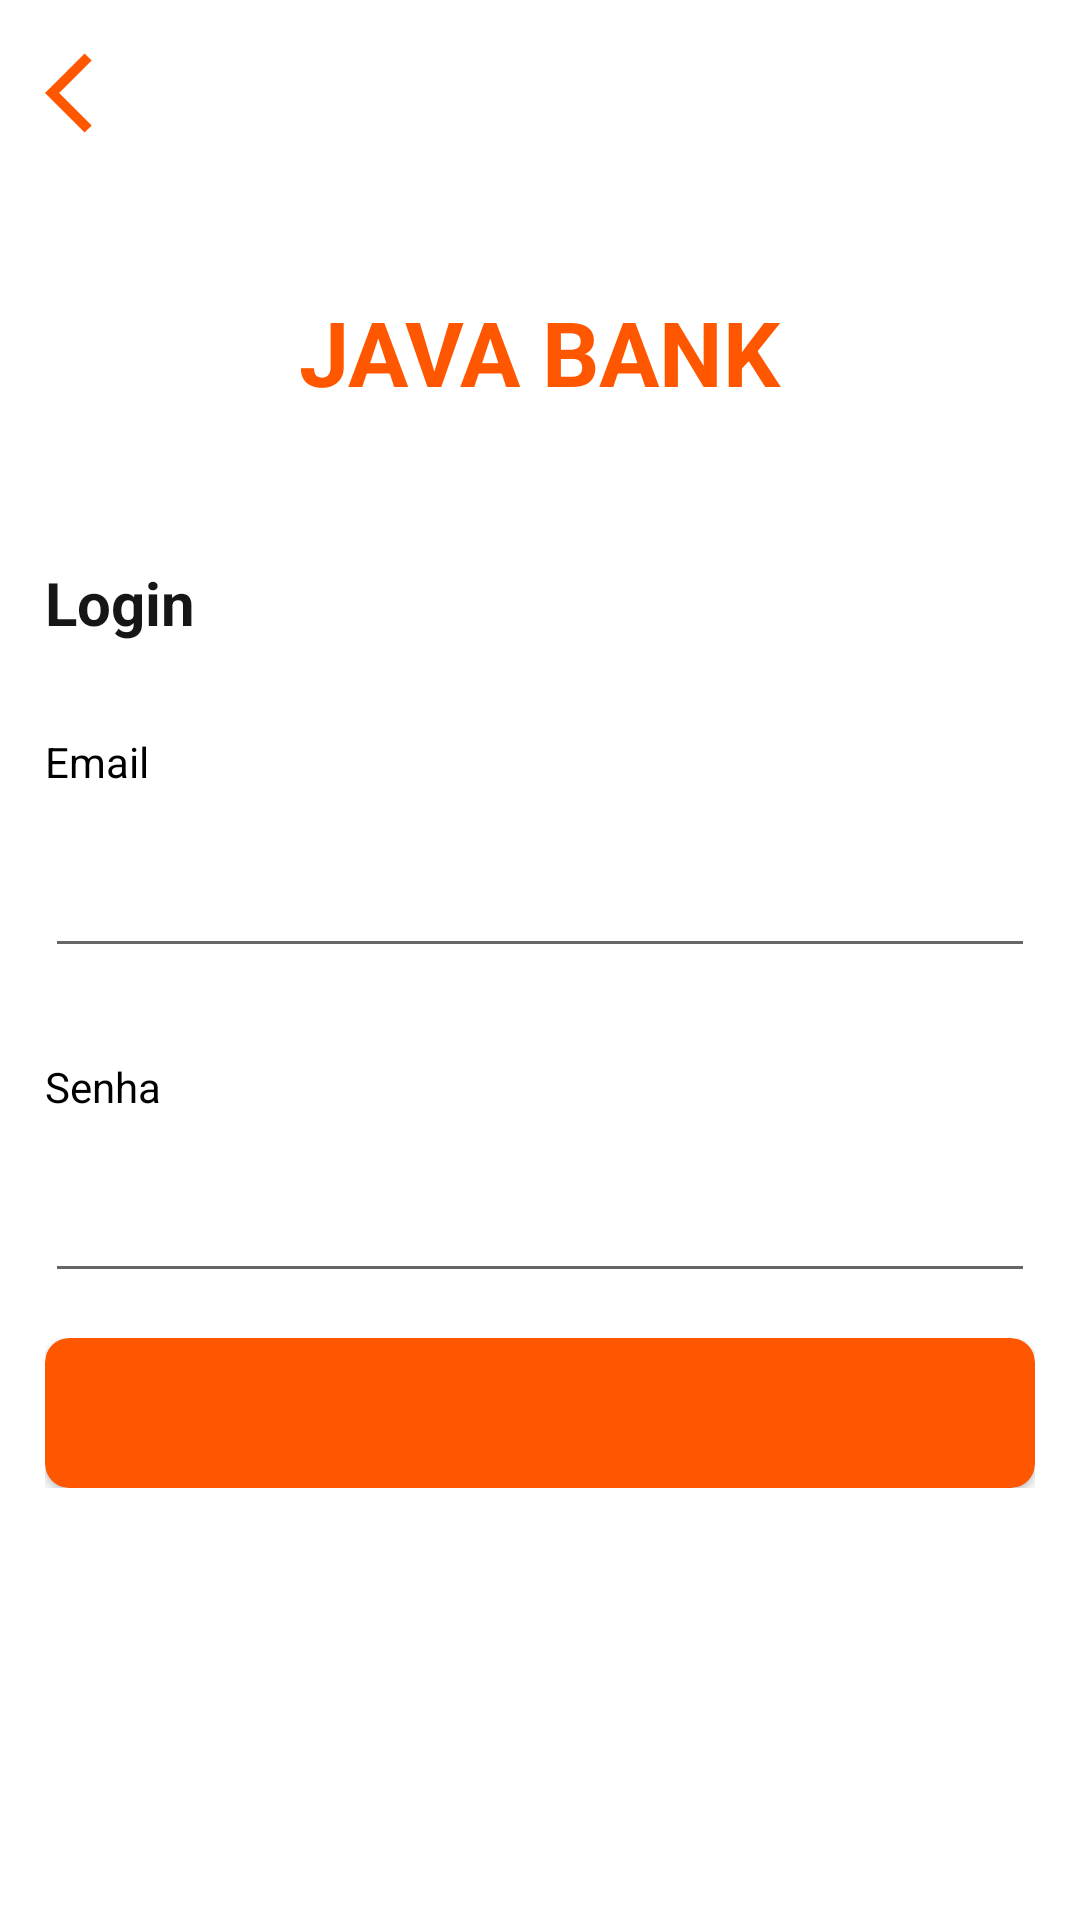

Icon click points for this 1080px×1920px phone screenshot, format [x,y]:
back: [68,93]
